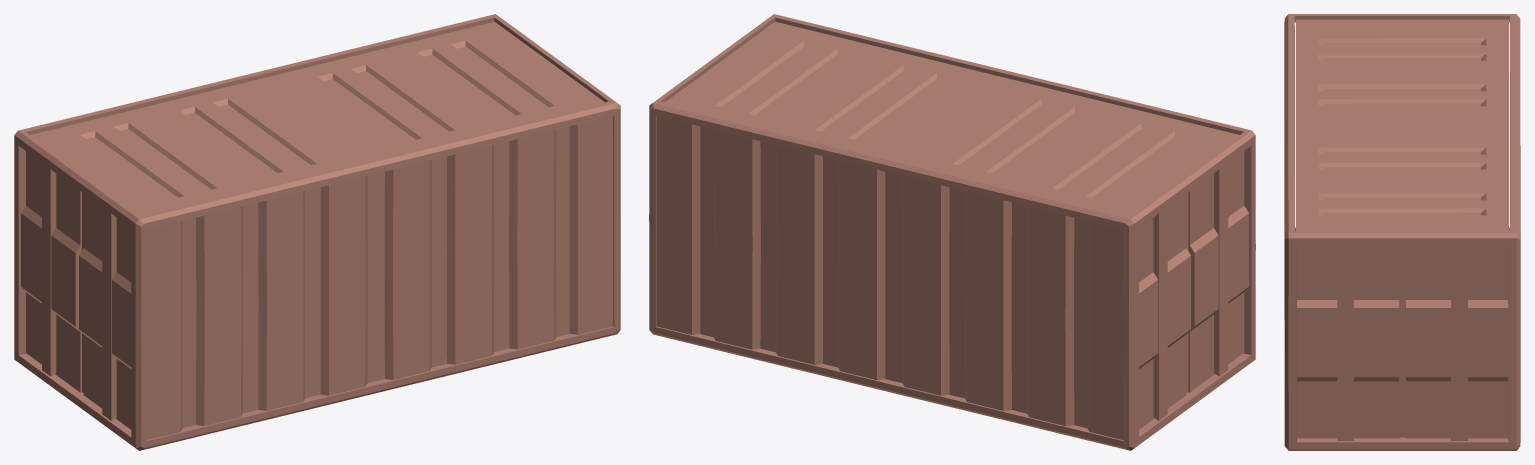
The model's file is env_container_02.glb.
The picture shows the model from 3 angles, left to right: view 1: azimuth 30°, elevation 25°; view 2: azimuth 150°, elevation 25°; view 3: azimuth 270°, elevation 25°; orthographic projection. The views are drawn at different scales.
Visible parts, largest first — view 1: _tmp_env_env_container_02.obj; view 2: _tmp_env_env_container_02.obj; view 3: _tmp_env_env_container_02.obj.
Part boxes in pixels (x1,y1,x2,y2): _tmp_env_env_container_02.obj: (14,14,620,450); _tmp_env_env_container_02.obj: (649,14,1255,450); _tmp_env_env_container_02.obj: (1284,14,1520,450).
Size of the model in its own units: 5.71 by 2.6 by 2.56.
